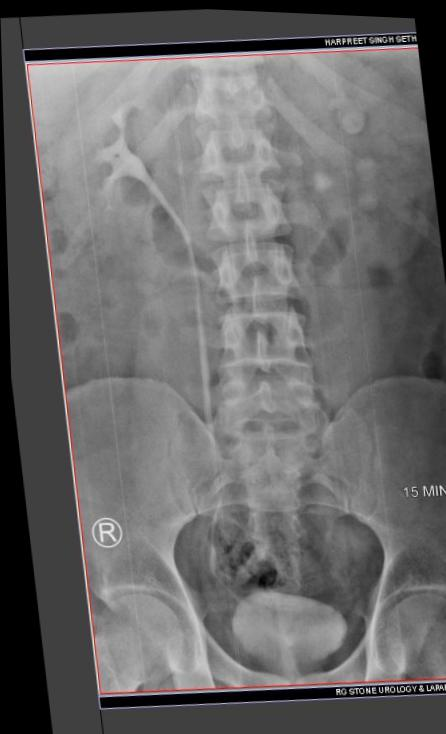bladder: (189, 604, 344, 721)
left kidney: (270, 16, 442, 276)
vertebrae: (159, 88, 264, 165)
